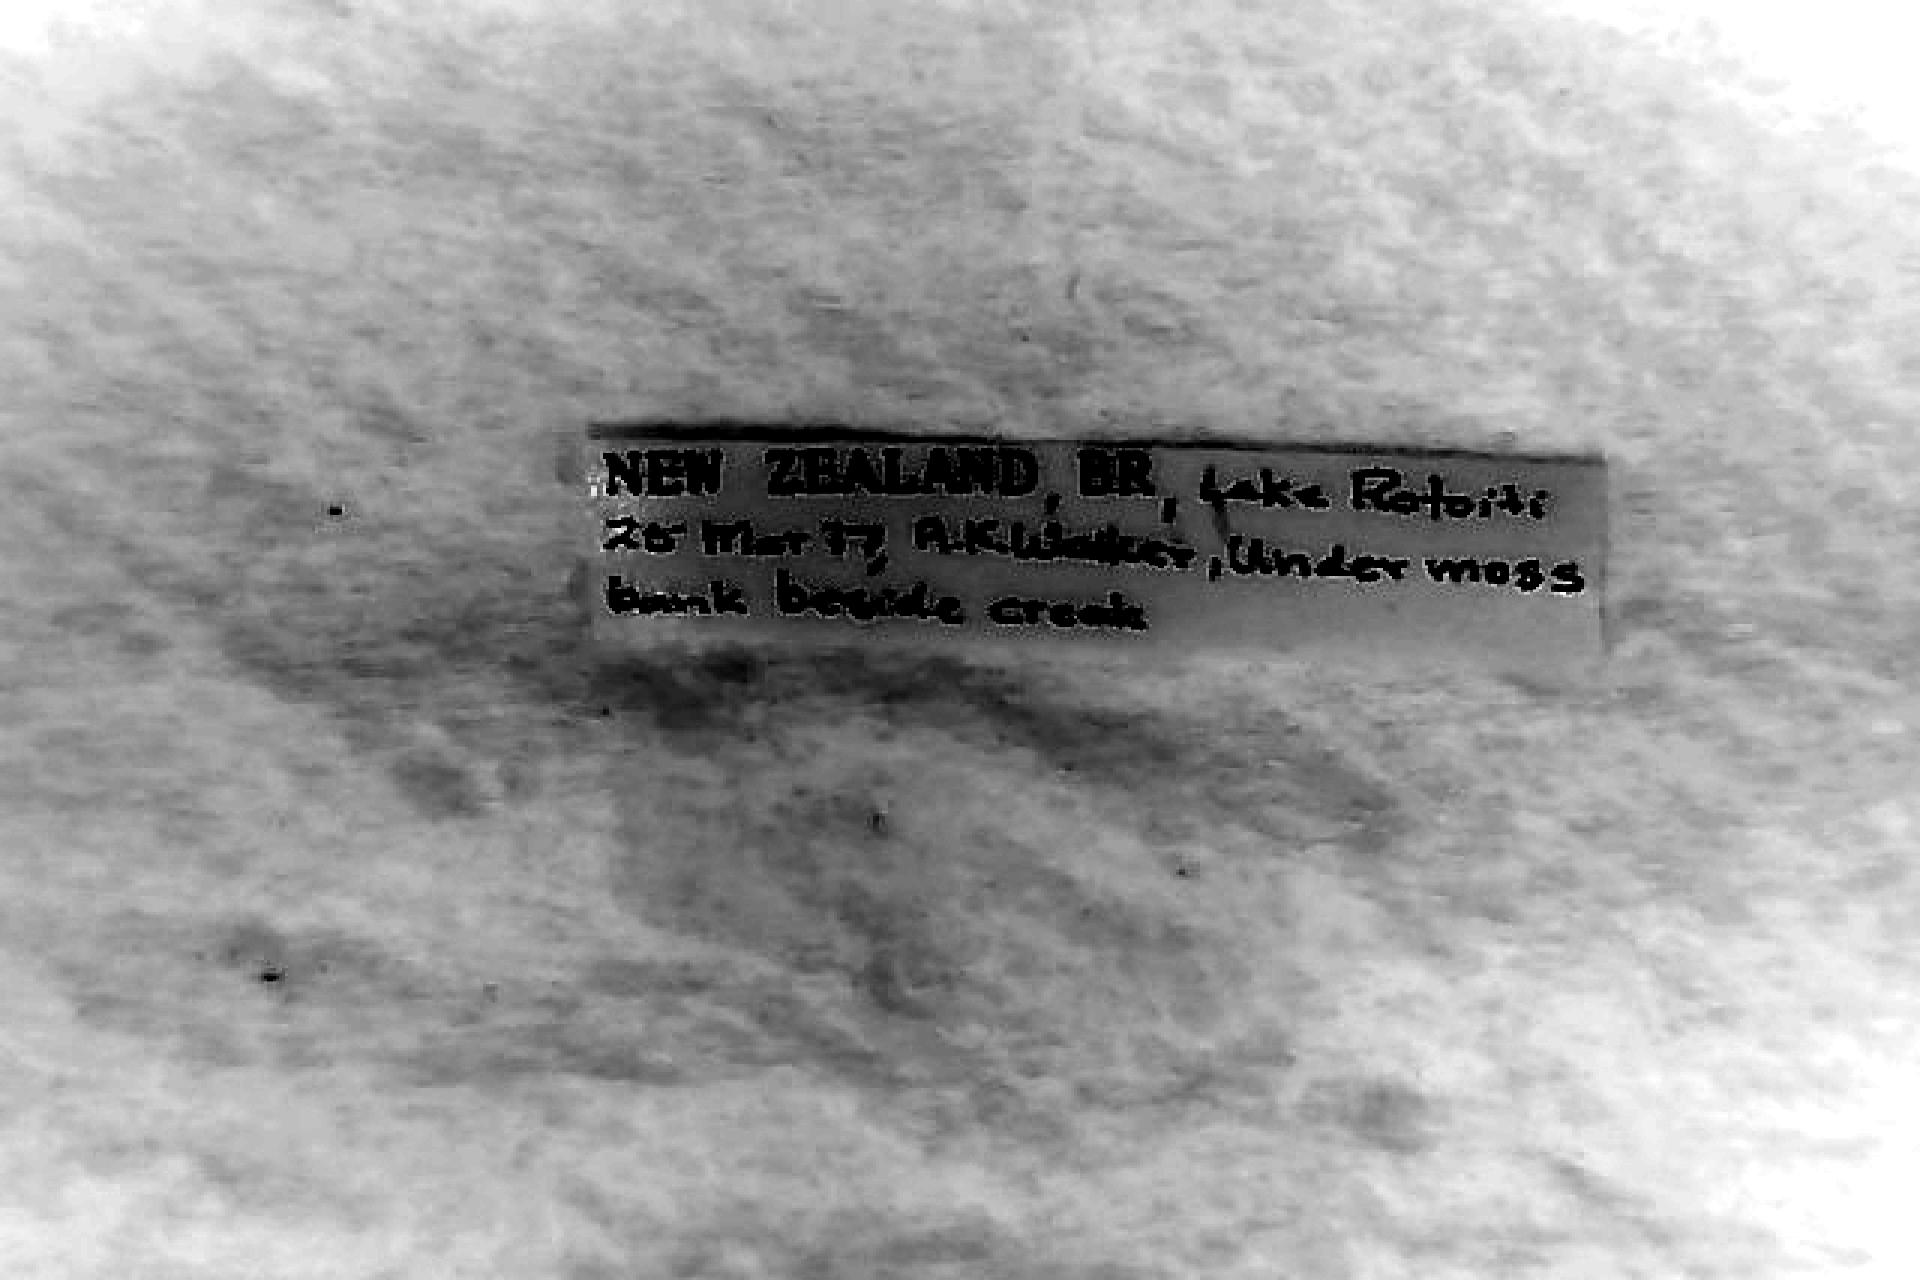mixed_label: (593, 430, 1601, 661)
